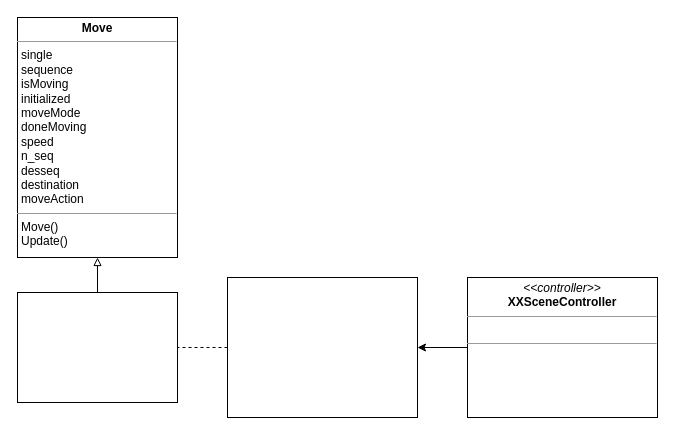
Some shapes in this 675 by 435 pixel diagram are drawn without their labels. The centre of each missing label's shape, as x and y in pixels:
<<controller>> CCActionManager: the point at 322,347
CCMoveAction moveObject IsMoving() MoveTo() MoveSequence(): the point at 97,347
